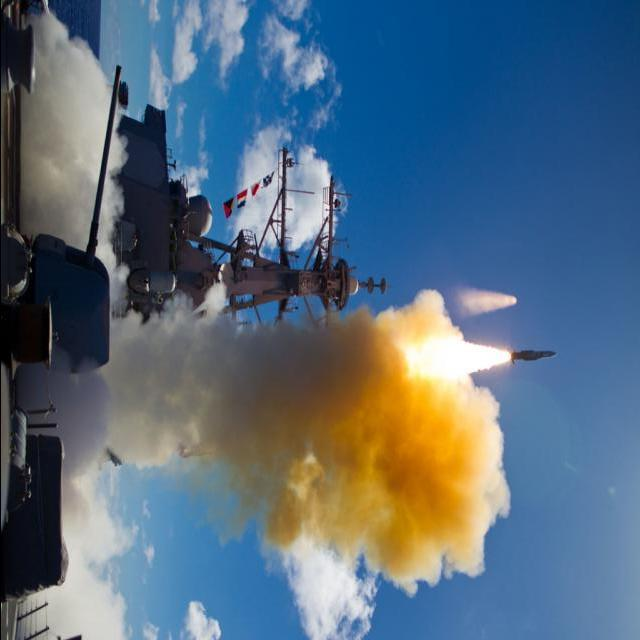Missile: (505, 343, 557, 366)
